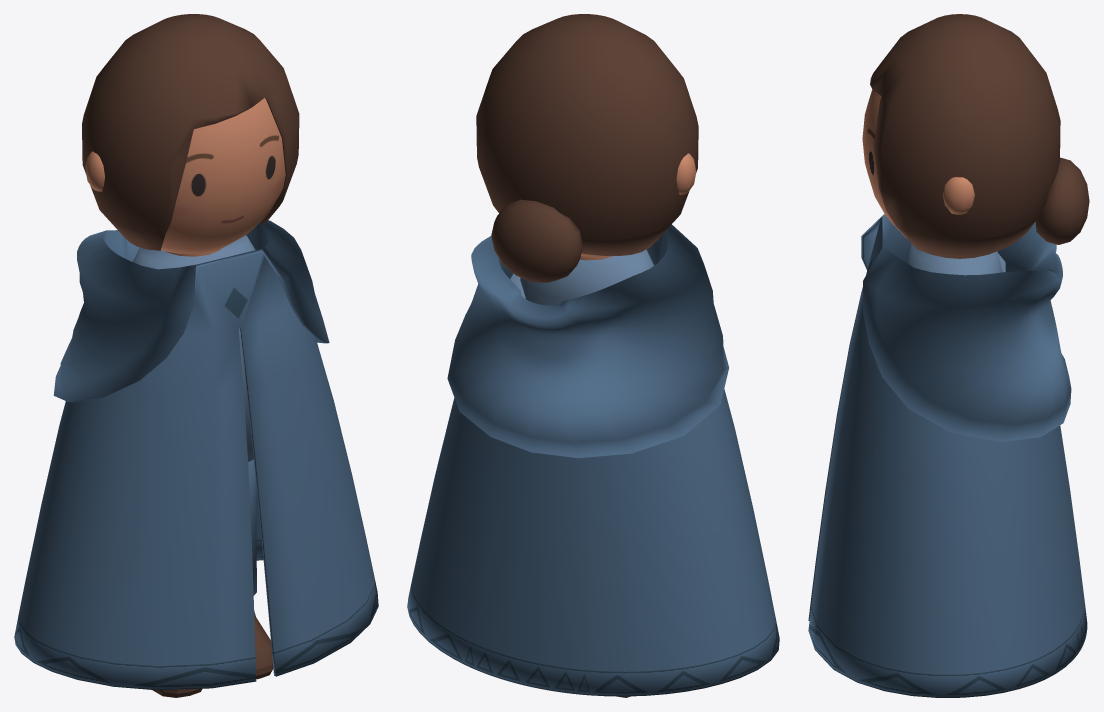
Rendered from traveller_drawing.glb.
The picture shows the model from 3 angles, left to right: view 1: azimuth 30°, elevation 25°; view 2: azimuth 150°, elevation 25°; view 3: azimuth 270°, elevation 25°; orthographic projection. The views are drawn at different scales.
Visible parts, largest first — view 1: Garment, Hair, Head, Body, Boots; view 2: Garment, Hair, Body; view 3: Garment, Hair, Body, Head.
Boxes of the visible parts, left/top/right/bottom form: Garment: left=14, top=220, right=378, bottom=690; Hair: left=82, top=14, right=299, bottom=250; Head: left=161, top=98, right=285, bottom=253; Body: left=85, top=151, right=256, bottom=595; Boots: left=152, top=611, right=273, bottom=697; Garment: left=407, top=224, right=779, bottom=696; Hair: left=476, top=14, right=698, bottom=282; Body: left=510, top=153, right=695, bottom=305; Garment: left=808, top=214, right=1087, bottom=697; Hair: left=870, top=14, right=1089, bottom=258; Body: left=907, top=177, right=1005, bottom=275; Head: left=862, top=89, right=906, bottom=237.
Size of the model in its own units: 1.76 by 3.19 by 1.27.
Materials: 2 (2 with a texture image).
